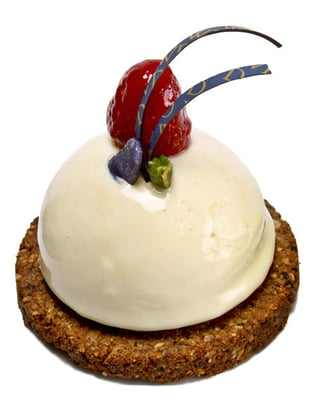sushi: (34, 48, 284, 337)
